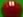brown: (0, 0, 23, 17)
